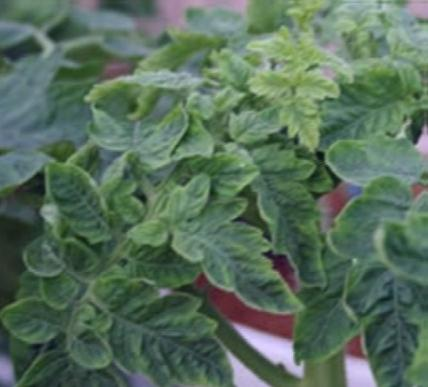Tomato leaf mosaic virus: (153, 199, 305, 319), (96, 276, 245, 387), (306, 55, 428, 150), (252, 138, 329, 283), (361, 270, 428, 387), (45, 154, 118, 245), (326, 133, 428, 192), (180, 144, 270, 194), (131, 100, 196, 169), (8, 294, 71, 347)
